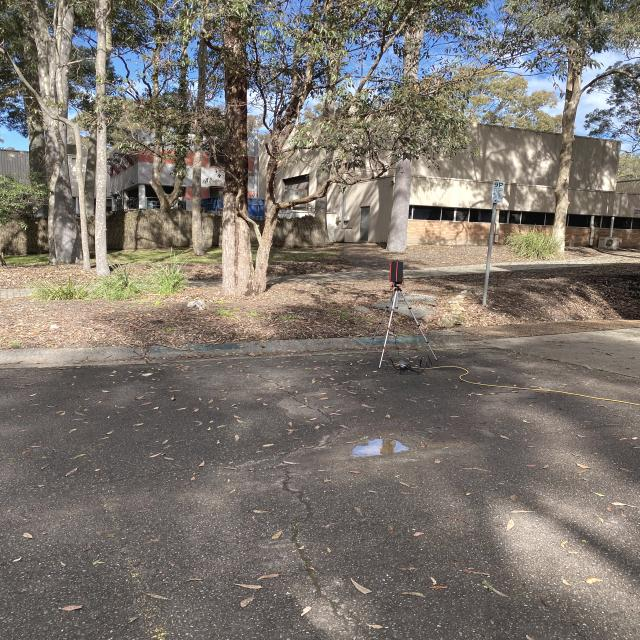matrix: (388, 261, 406, 284)
